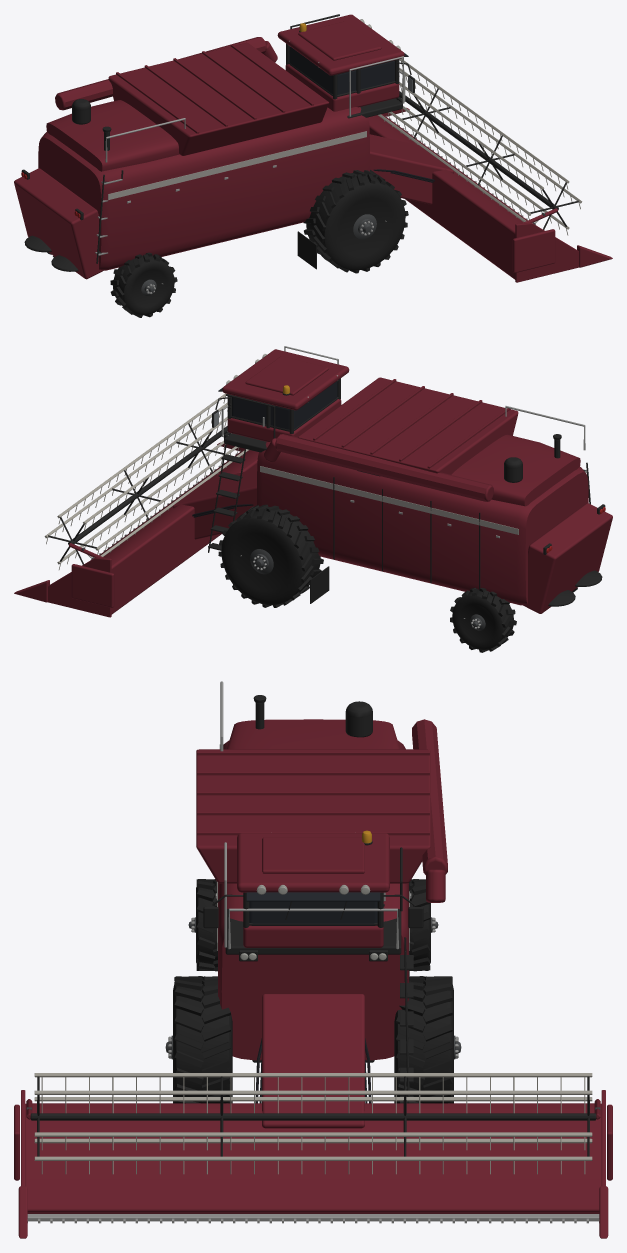
File: SM_Prop_farm_combine_1.glb
The picture shows the model from 3 angles, top to bottom: view 1: azimuth 30°, elevation 25°; view 2: azimuth 150°, elevation 25°; view 3: azimuth 270°, elevation 25°; orthographic projection. The views are drawn at different scales.
Visible parts, largest first — view 1: SM_Prop_farm_combine_1; view 2: SM_Prop_farm_combine_1; view 3: SM_Prop_farm_combine_1.
Part boxes in pixels (left/top/right/bottom): SM_Prop_farm_combine_1: left=14, top=14, right=612, bottom=317; SM_Prop_farm_combine_1: left=14, top=346, right=612, bottom=652; SM_Prop_farm_combine_1: left=14, top=681, right=612, bottom=1238.
Size of the model in its own units: 10.16 by 4.1 by 7.84.
